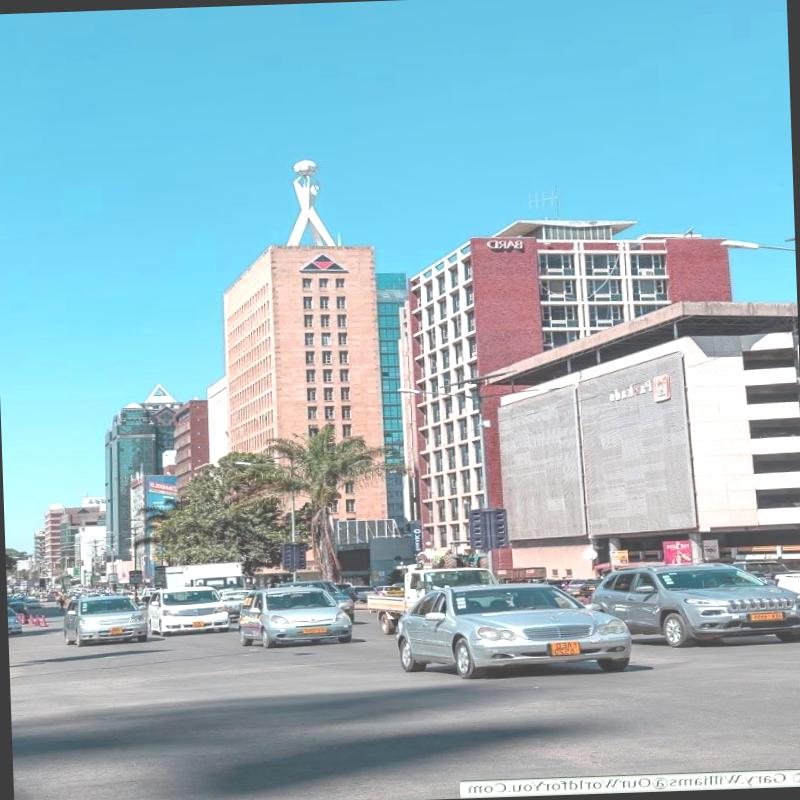license plate on a car: (547, 641, 579, 655), (748, 612, 783, 620), (301, 628, 327, 634), (108, 626, 124, 634), (190, 622, 203, 628)
